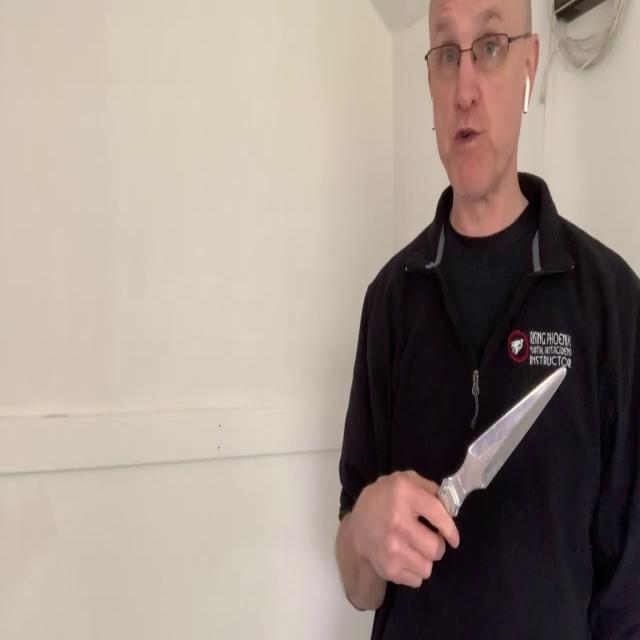Knife_Handle: (356, 367, 567, 588)
